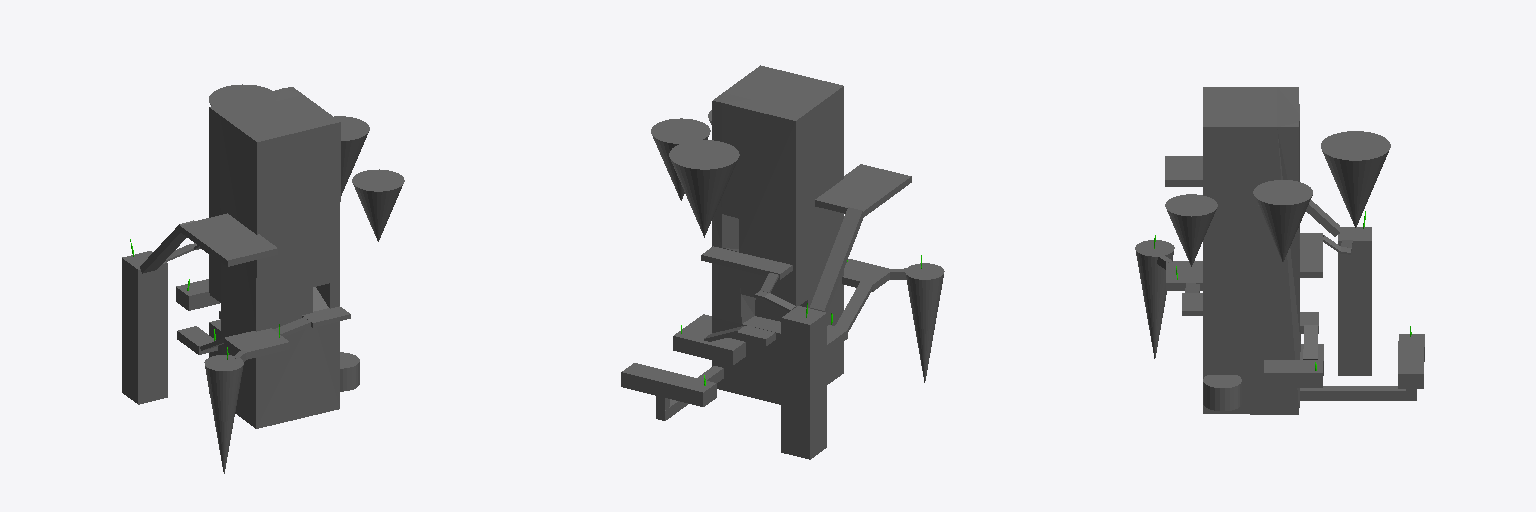
The model's file is tower2.obj.
3 renders of one model, left to right at view 1: azimuth 30°, elevation 25°; view 2: azimuth 150°, elevation 25°; view 3: azimuth 270°, elevation 25°, orthographic.
Parts seen in each view (by area): view 1: s.0347, p.0366, p.0340, p.0362, p.0343, p.0344, p.0361, p.0232, p.0341, p.0342, p.0230, p.0359 (+1 smaller); view 2: s.0347, p.0366, p.0342, p.0340, p.0362, p.0232, p.0238, p.0341, p.0344, p.0365, p.0361, p.0301 (+2 smaller); view 3: s.0347, p.0366, p.0342, p.0344, p.0362, p.0343, p.0238, p.0356, p.0232, p.0230, p.0340, p.0365 (+1 smaller).
Part boxes in pixels (x1,y1,x2,y2): s.0347: (209,87,340,428); p.0366: (122,251,167,404); p.0340: (179,213,277,266); p.0362: (204,355,243,473); p.0343: (352,169,404,241); p.0344: (334,116,369,195); p.0361: (224,328,289,359); p.0232: (176,279,219,310); p.0341: (140,220,193,273); p.0342: (209,84,271,105); p.0230: (340,352,359,391); p.0359: (177,326,217,354); s.0347: (712,65,843,404); p.0366: (781,306,826,459); p.0342: (669,140,739,237); p.0340: (815,164,911,217); p.0362: (905,263,944,382); p.0232: (621,363,716,406); p.0238: (673,314,745,364); p.0341: (810,207,862,312); p.0344: (651,118,710,200); p.0365: (701,246,792,279); p.0361: (842,259,889,291); p.0301: (835,281,872,331); s.0347: (1203,87,1300,414); p.0366: (1338,227,1371,375); p.0342: (1321,131,1390,227); p.0344: (1253,180,1312,261); p.0362: (1135,240,1174,358); p.0343: (1165,194,1217,266); p.0238: (1264,344,1323,387); p.0356: (1300,386,1415,400); p.0232: (1398,334,1424,388); p.0230: (1203,375,1241,410); p.0340: (1165,156,1202,186); p.0365: (1300,233,1322,277).
Size of the model in its own units: 0.5614 by 0.7295 by 0.6317.